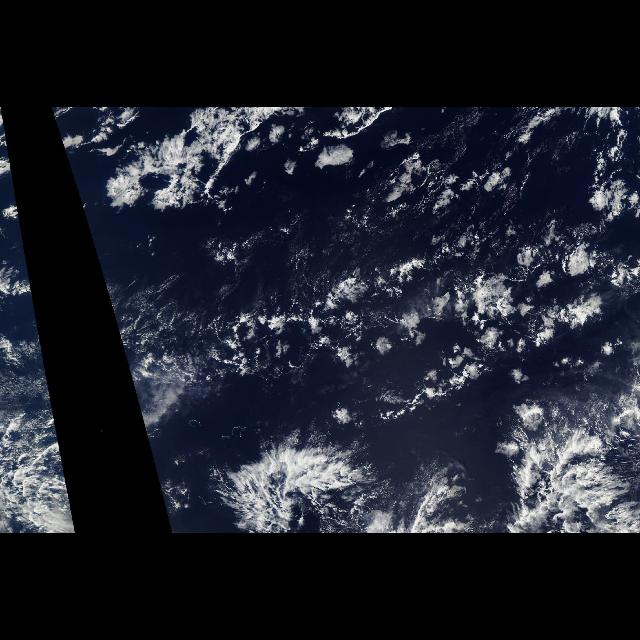Fish: (198, 433, 452, 533), (487, 396, 639, 534)
Flower: (322, 183, 598, 425)
